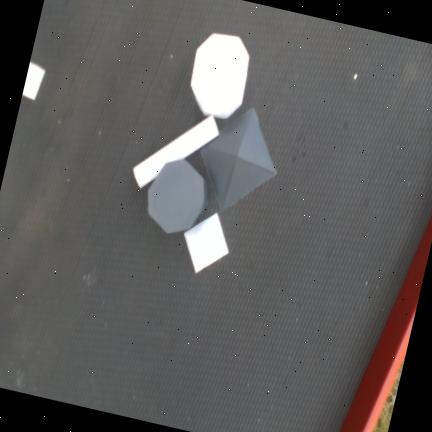Cilindro: (132, 114, 220, 189)
Paralelepipedo: (22, 61, 46, 100)
Piramide: (199, 106, 277, 212), (183, 212, 229, 274)
Prisma_hexagonal: (190, 33, 250, 119), (148, 159, 209, 234)
